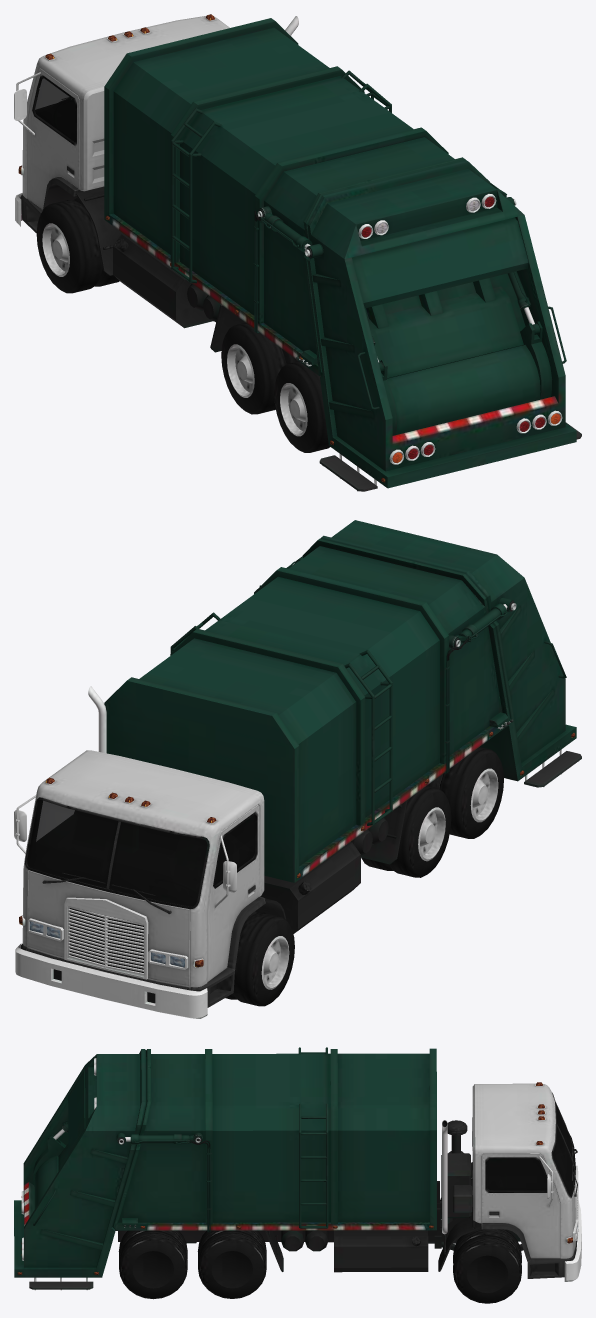
The model's file is garbage_truck.glb.
3 renders of one model, top to bottom at view 1: azimuth 30°, elevation 25°; view 2: azimuth 150°, elevation 25°; view 3: azimuth 270°, elevation 25°, orthographic. The views are drawn at different scales.
Parts seen in each view (by area): view 1: garbage_truck, wheel_4, wheel_3, wheel_2; view 2: garbage_truck, wheel_4, wheel_2, wheel_3; view 3: garbage_truck, wheel_1, wheel_5, wheel_0.
Part boxes in pixels (box(x1,y1,x2,y2)): garbage_truck: box(14, 14, 581, 491); wheel_4: box(36, 197, 119, 293); wheel_3: box(221, 322, 298, 414); wheel_2: box(274, 361, 329, 452); garbage_truck: box(14, 520, 581, 1018); wheel_4: box(225, 911, 294, 1006); wheel_2: box(427, 747, 503, 838); wheel_3: box(361, 785, 451, 877); garbage_truck: box(14, 1047, 581, 1290); wheel_1: box(453, 1228, 521, 1303); wheel_5: box(118, 1230, 187, 1299); wheel_0: box(197, 1230, 266, 1298).
Size of the model in its own units: 2.74 by 2.96 by 8.
Materials: 3 (3 with a texture image).
